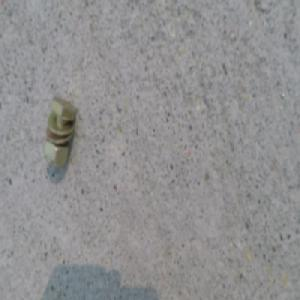BoltNutSet: (45, 96, 78, 168)
